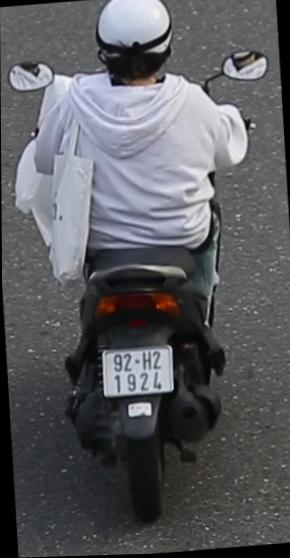LP: (100, 345, 176, 401)
helmet: (85, 0, 188, 110)
